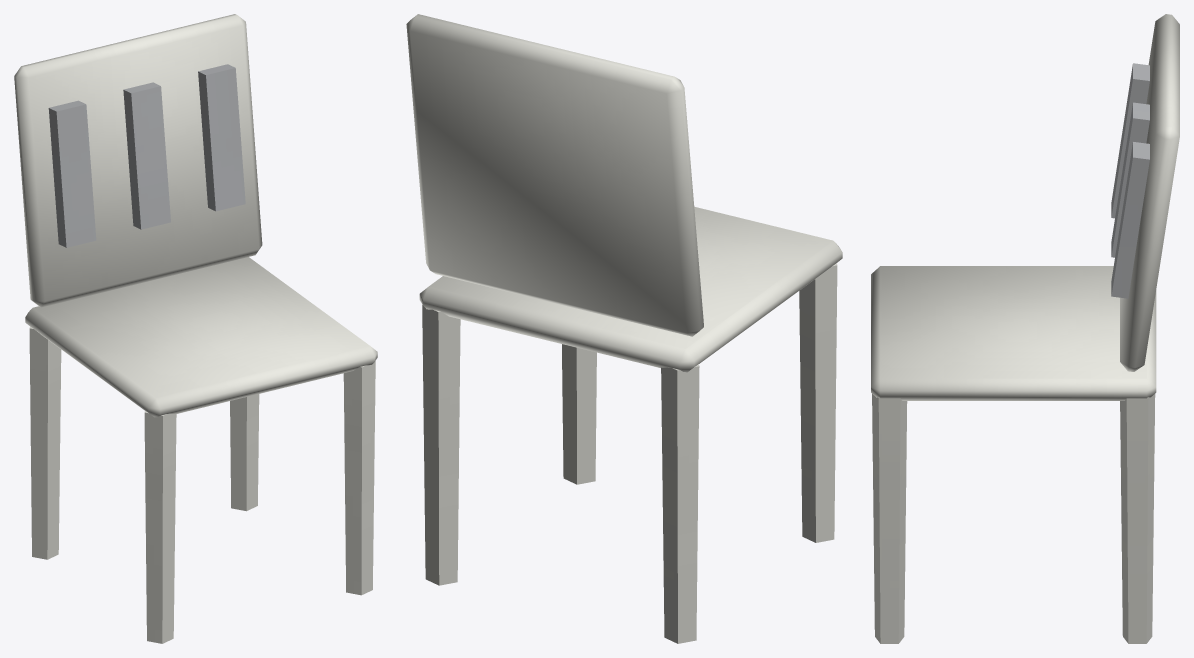
File: cadeira_plastico.glb
3 views of the same model, side by side, from view 1: azimuth 30°, elevation 25°; view 2: azimuth 150°, elevation 25°; view 3: azimuth 270°, elevation 25° (orthographic). The views are drawn at different scales.
Visible parts, largest first — view 1: Inteiro; view 2: Inteiro; view 3: Inteiro.
Boxes of the visible parts, x1,y1,x2,y2 form: Inteiro: (14,14,377,643); Inteiro: (406,14,842,643); Inteiro: (871,14,1179,643).
Bounding box in the file's own units: 0.46 × 0.9186 × 0.4983.
Materials: 1 (1 with a texture image).
